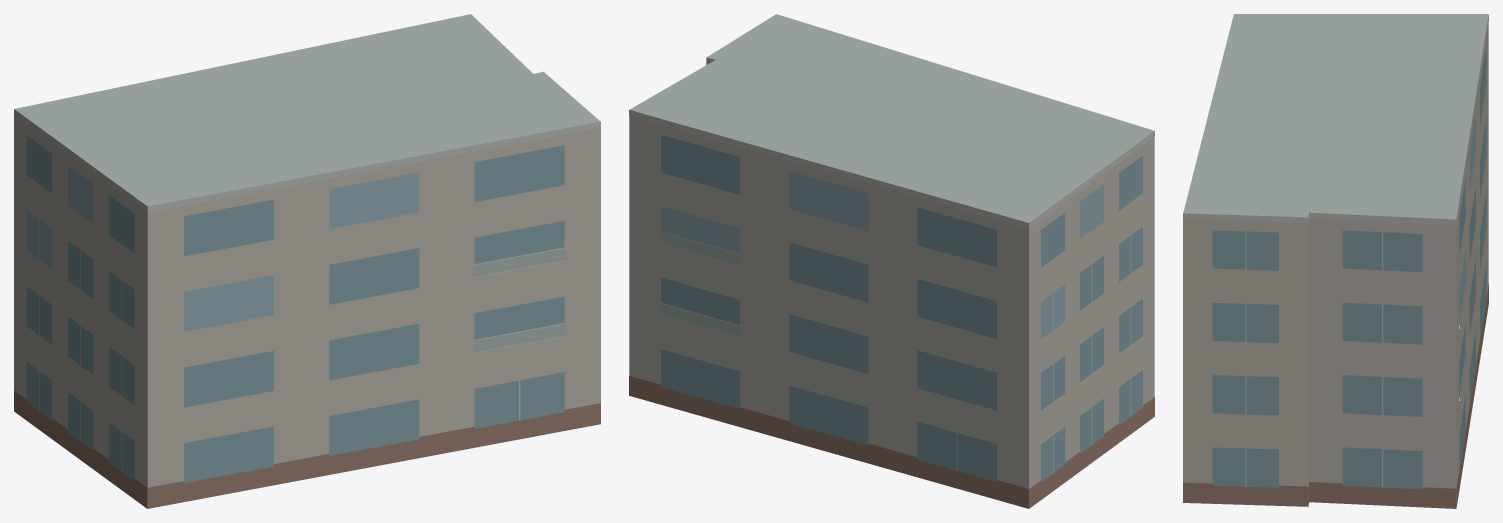
Rendered from survey-upis-32806230.glb.
3 renders of one model, left to right at view 1: azimuth 30°, elevation 25°; view 2: azimuth 150°, elevation 25°; view 3: azimuth 270°, elevation 25°, orthographic. The views are drawn at different scales.
Visible parts, largest first — view 1: survey-upis-32806230.tmp; view 2: survey-upis-32806230.tmp; view 3: survey-upis-32806230.tmp.
Part boxes in pixels (x1=…): survey-upis-32806230.tmp: x1=14, y1=14, x2=600, y2=508; survey-upis-32806230.tmp: x1=629, y1=14, x2=1154, y2=508; survey-upis-32806230.tmp: x1=1183, y1=14, x2=1488, y2=508.
Size of the model in its own units: 18.59 by 12.2 by 11.69.
